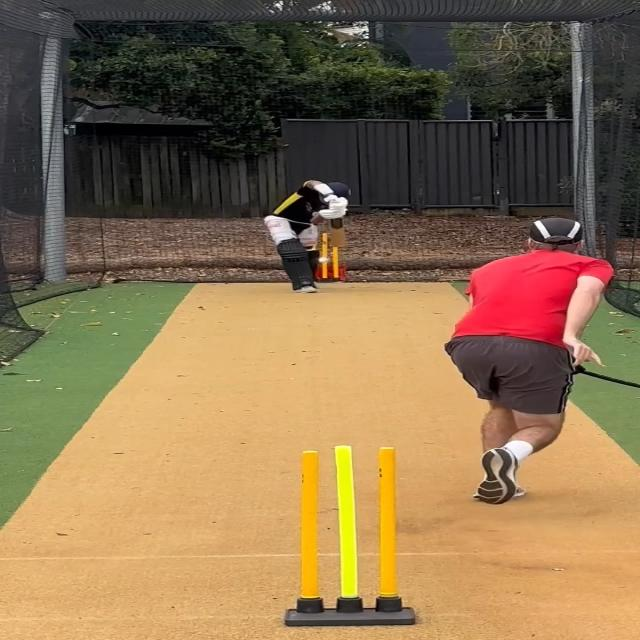ball: (317, 256, 330, 264)
stump: (283, 445, 416, 627)
